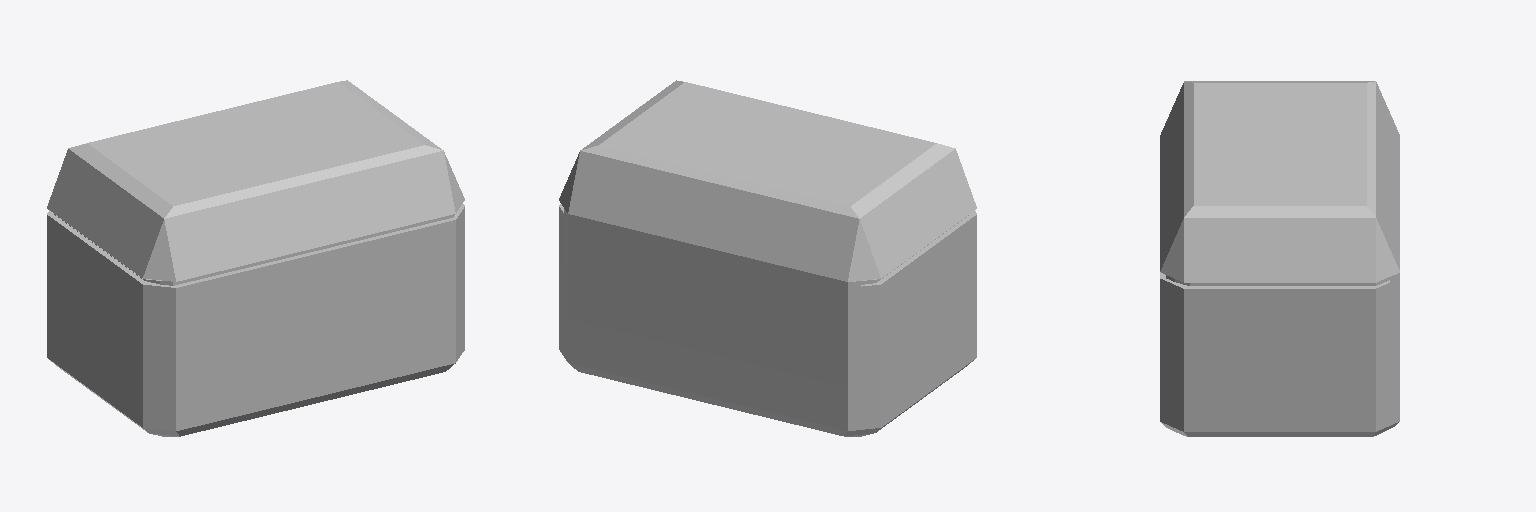
Rendered from lootChestClosed.obj.
The picture shows the model from 3 angles: view 1: azimuth 30°, elevation 25°; view 2: azimuth 150°, elevation 25°; view 3: azimuth 270°, elevation 25°; orthographic projection.
Visible parts, largest first — view 1: Closed_Cube.000; view 2: Closed_Cube.000; view 3: Closed_Cube.000.
Boxes of the visible parts, x1,y1,x2,y2 form: Closed_Cube.000: [47, 80, 464, 436]; Closed_Cube.000: [559, 80, 976, 436]; Closed_Cube.000: [1160, 81, 1399, 436].
Size of the model in its own units: 1.55 by 1.03 by 1.